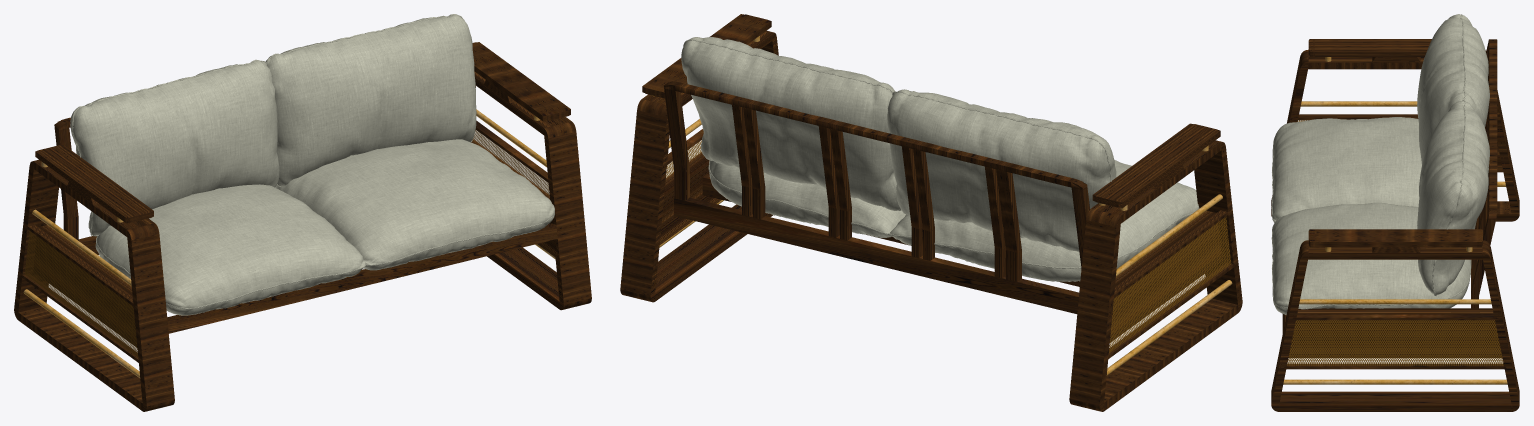
The model's file is Wood_Sofa_2.glb.
3 renders of one model, left to right at view 1: azimuth 30°, elevation 25°; view 2: azimuth 150°, elevation 25°; view 3: azimuth 270°, elevation 25°, orthographic. The views are drawn at different scales.
Parts seen in each view (by area): view 1: wood, fabric02, fabric04, fabric01, fabric03, Plane, metal, Plane.001; view 2: wood, fabric02, fabric01, fabric03, Plane, fabric04, metal; view 3: wood, fabric03, fabric04, Plane.001, fabric02, fabric01, metal.
Part boxes in pixels (bbox=[...]): wood: bbox=[14, 42, 591, 411]; fabric02: bbox=[265, 14, 476, 186]; fabric04: bbox=[276, 139, 554, 270]; fabric01: bbox=[70, 59, 279, 236]; fabric03: bbox=[95, 184, 366, 315]; Plane: bbox=[24, 230, 137, 356]; metal: bbox=[23, 109, 555, 378]; Plane.001: bbox=[473, 130, 549, 194]; wood: bbox=[620, 14, 1242, 411]; fabric02: bbox=[681, 37, 901, 210]; fabric01: bbox=[887, 89, 1116, 252]; fabric03: bbox=[888, 160, 1199, 281]; Plane: bbox=[1109, 217, 1231, 352]; fabric04: bbox=[708, 160, 905, 237]; metal: bbox=[651, 36, 1232, 375]; wood: bbox=[1271, 39, 1519, 411]; fabric03: bbox=[1271, 117, 1421, 222]; fabric04: bbox=[1271, 202, 1471, 314]; Plane.001: bbox=[1287, 320, 1503, 365]; fabric02: bbox=[1417, 100, 1489, 295]; fabric01: bbox=[1417, 14, 1489, 164]; metal: bbox=[1283, 57, 1507, 384].
Size of the model in its own units: 1.5 by 0.7359 by 0.7747.
4 materials, 4 textured.
